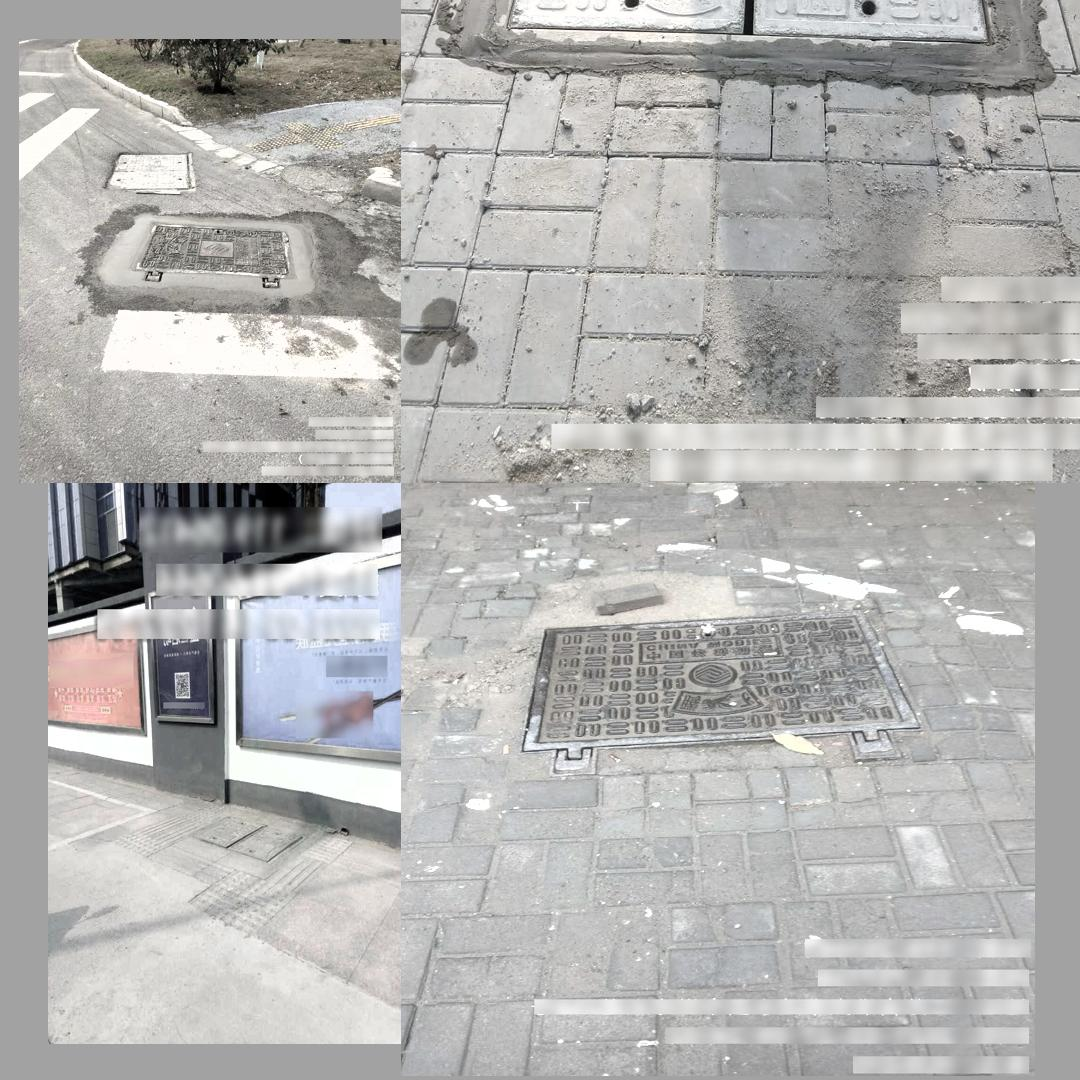good: (530, 606, 885, 757), (493, 0, 1005, 45), (129, 220, 298, 289), (192, 814, 306, 861), (103, 151, 196, 195)
